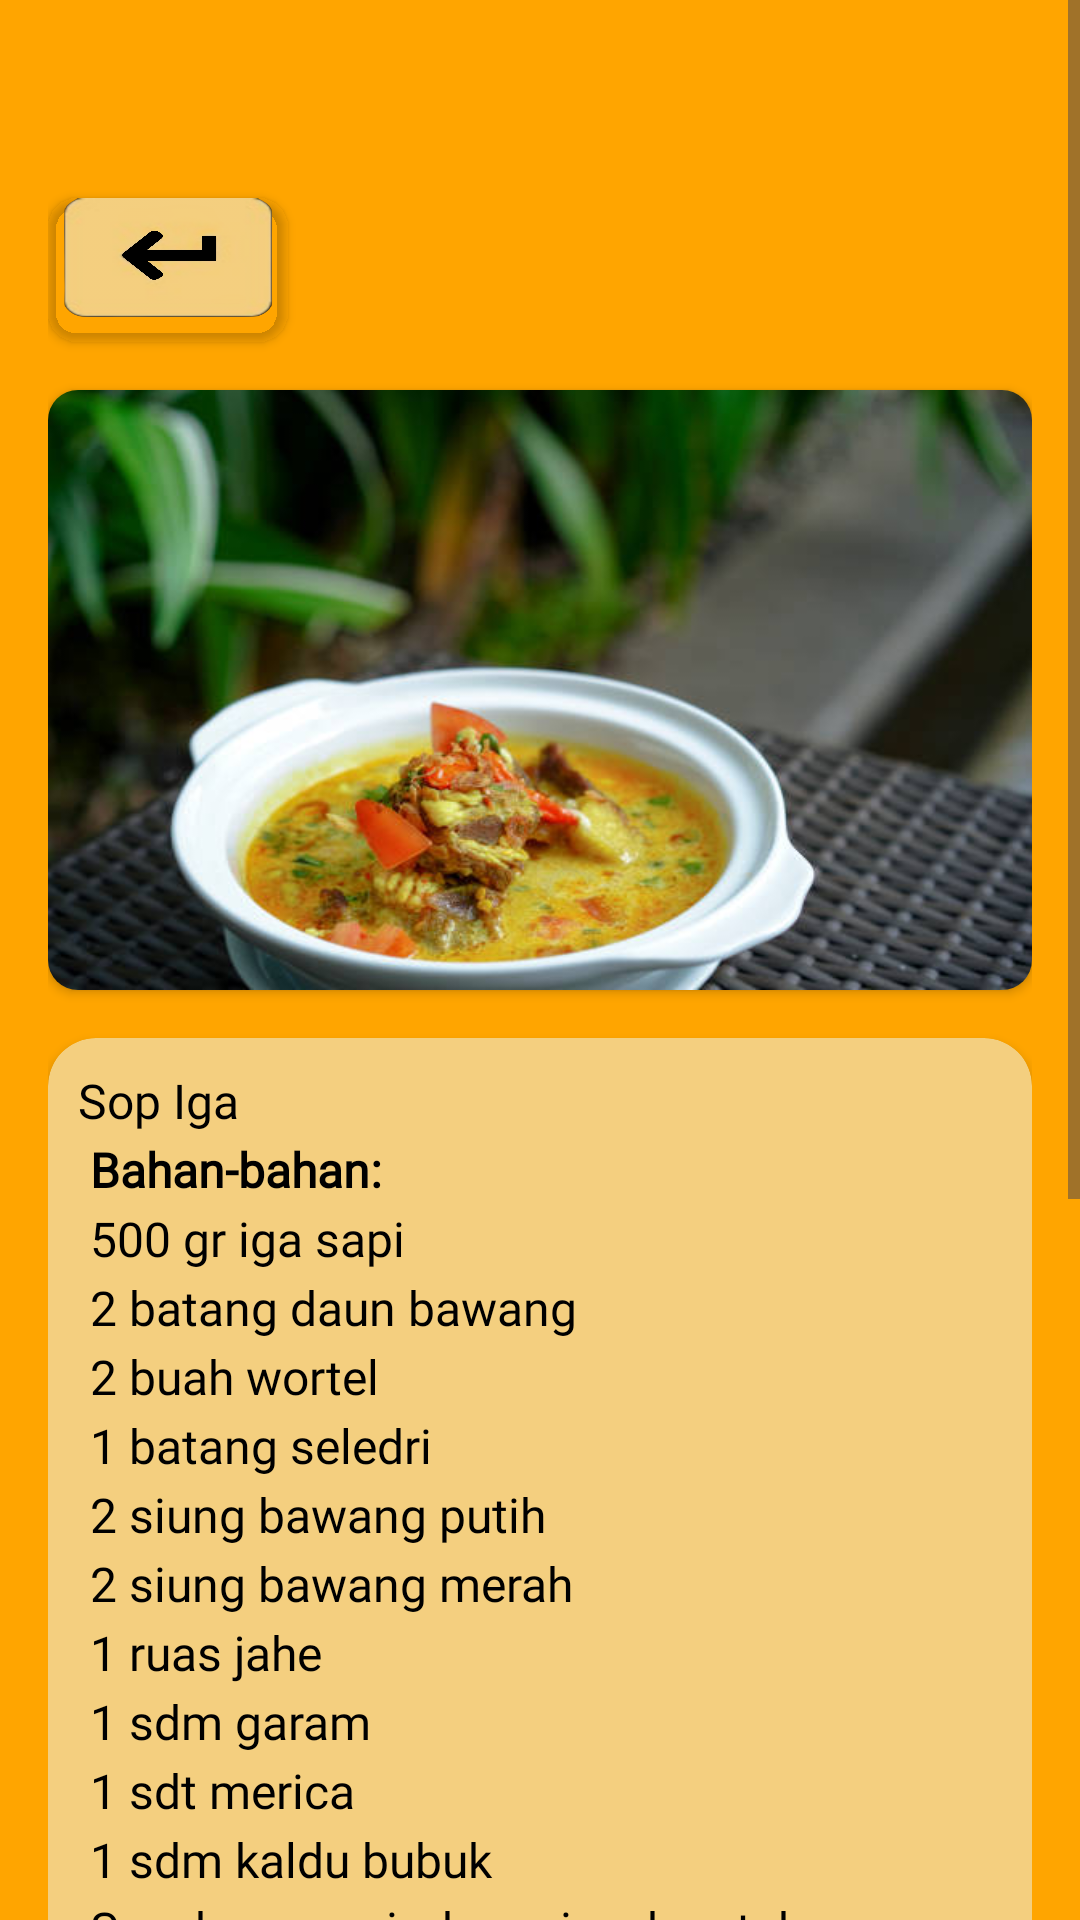

Named icons in this screenshot (1080px×1920px) and their centers, [x,y]:
Kembali: [166,270]
